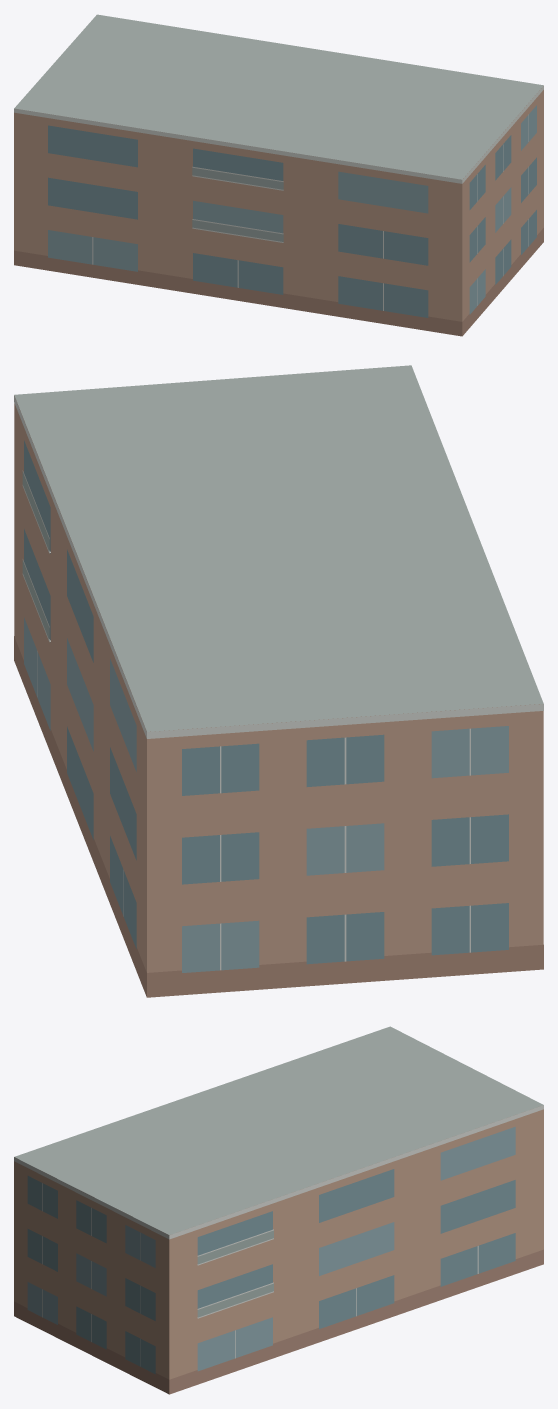
File: survey-upis-33003727.glb
3 renders of one model, top to bottom at view 1: azimuth 30°, elevation 25°; view 2: azimuth 150°, elevation 25°; view 3: azimuth 270°, elevation 25°, orthographic. The views are drawn at different scales.
Parts seen in each view (by area): view 1: survey-upis-33003727.tmp; view 2: survey-upis-33003727.tmp; view 3: survey-upis-33003727.tmp.
Part boxes in pixels (x1,y1,x2,y2): survey-upis-33003727.tmp: (14, 14, 543, 336); survey-upis-33003727.tmp: (14, 365, 543, 997); survey-upis-33003727.tmp: (14, 1026, 543, 1394).
Size of the model in its own units: 25.74 by 9.15 by 27.6.
